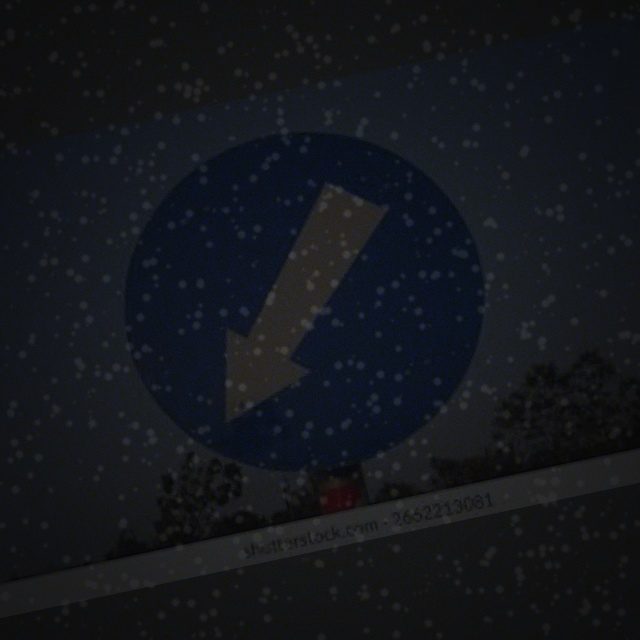Compulsory_Keep_Left: (96, 104, 503, 489)
